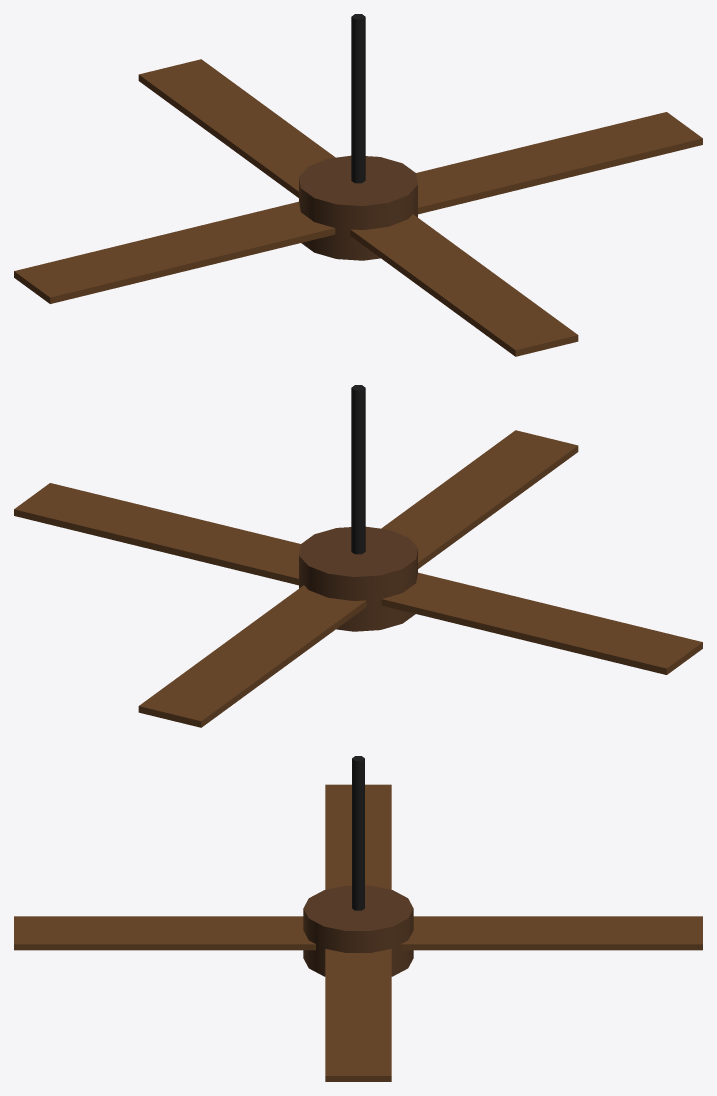
Rendered from ceiling-fan.glb.
The picture shows the model from 3 angles, top to bottom: view 1: azimuth 30°, elevation 25°; view 2: azimuth 150°, elevation 25°; view 3: azimuth 270°, elevation 25°; orthographic projection. The views are drawn at different scales.
Parts seen in each view (by area): view 1: ceiling-fan; view 2: ceiling-fan; view 3: ceiling-fan.
Part boxes in pixels (x1,y1,x2,y2): ceiling-fan: [14, 14, 702, 356]; ceiling-fan: [14, 385, 702, 727]; ceiling-fan: [14, 756, 702, 1081].
Size of the model in its own units: 1.25 by 0.4 by 1.25.
